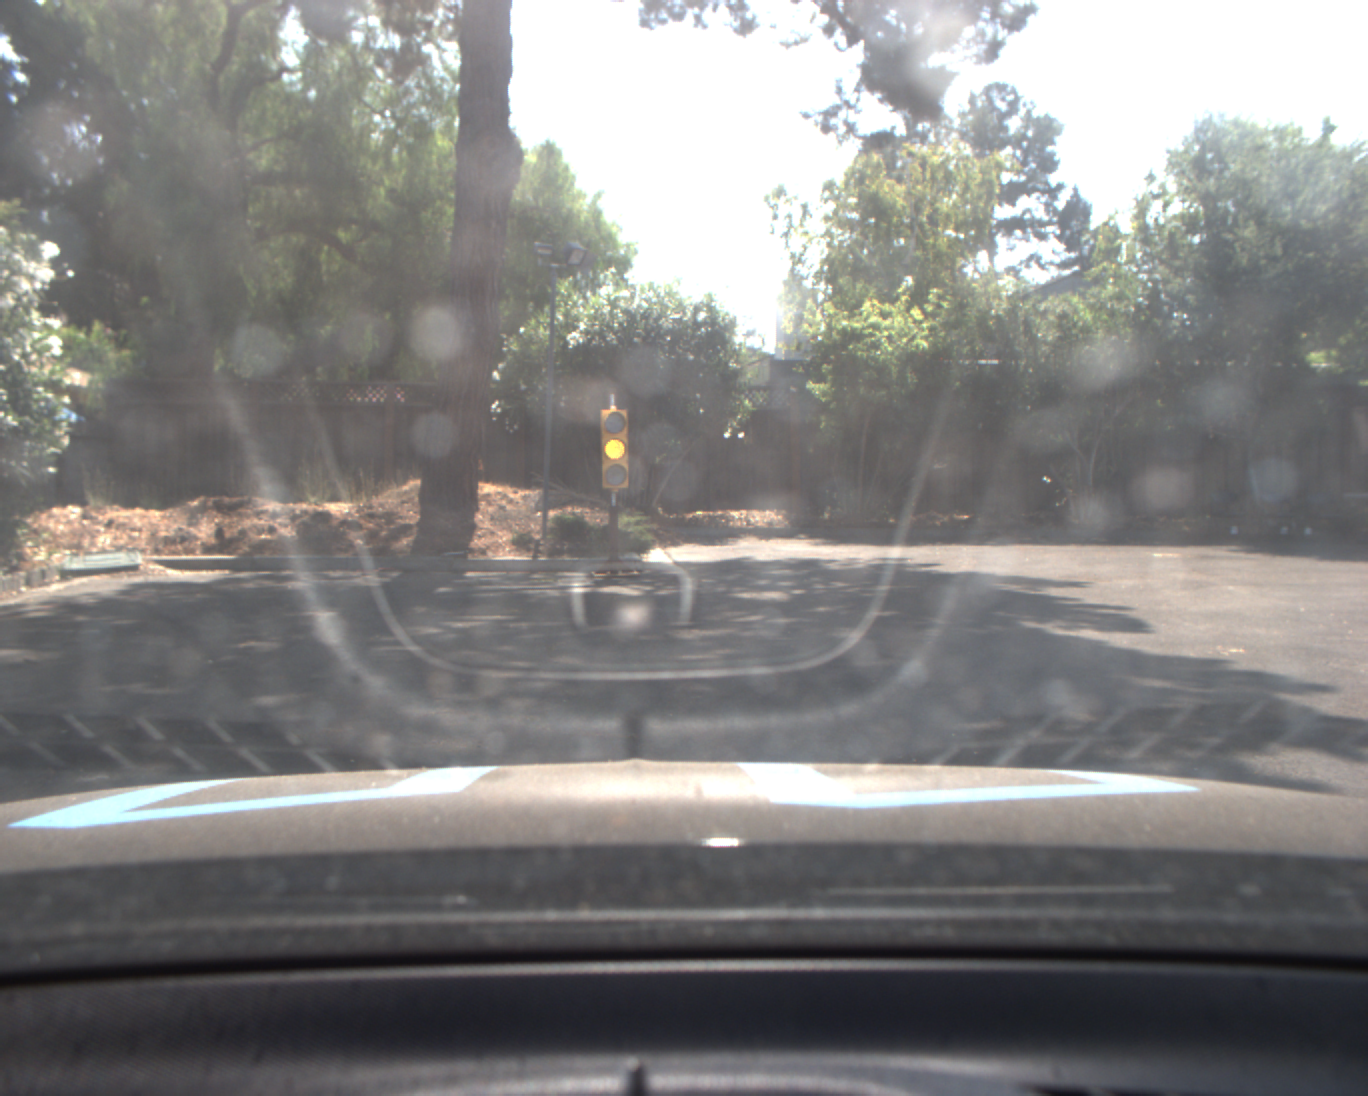yellow: (600, 405, 631, 492)
